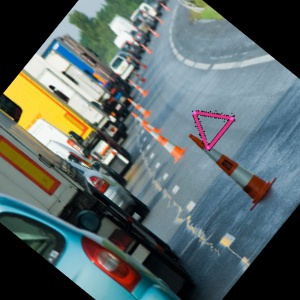triangle: (187, 107, 239, 152)
